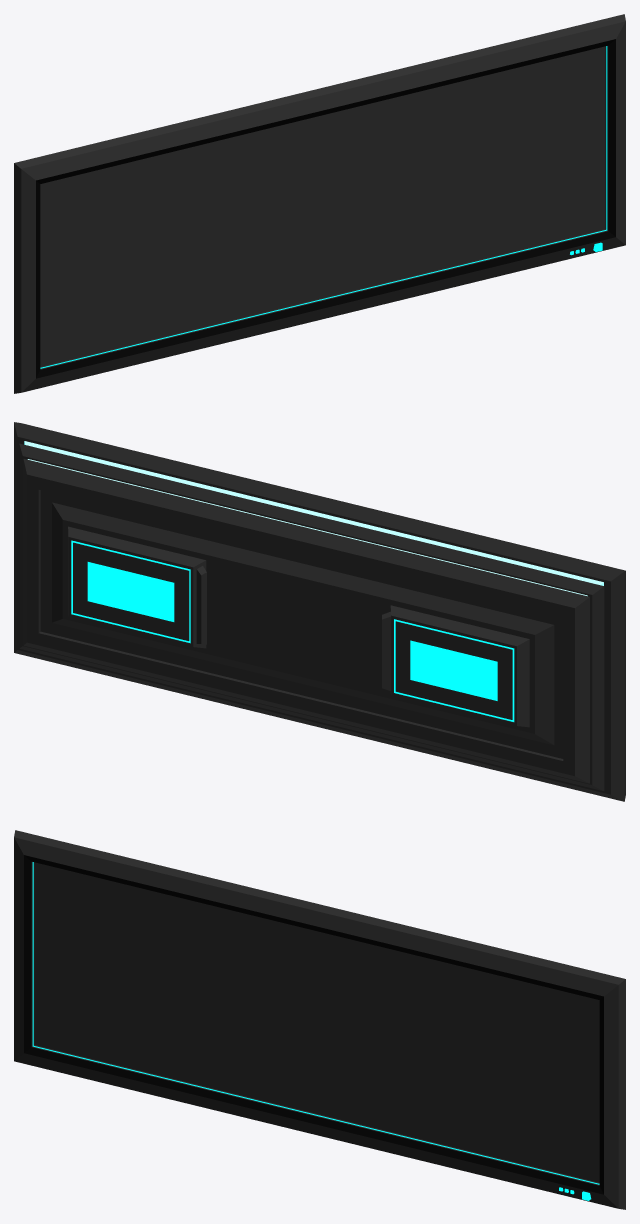
3 renders of one model, top to bottom at view 1: azimuth 30°, elevation 25°; view 2: azimuth 150°, elevation 25°; view 3: azimuth 330°, elevation 25°, orthographic.
Visible parts, largest first — view 1: TV; view 2: TV; view 3: TV.
Part boxes in pixels (x1=…): TV: x1=14, y1=14, x2=625, y2=393; TV: x1=14, y1=422, x2=625, y2=801; TV: x1=14, y1=830, x2=625, y2=1209.
Size of the model in its own units: 1563 by 155 by 565.
